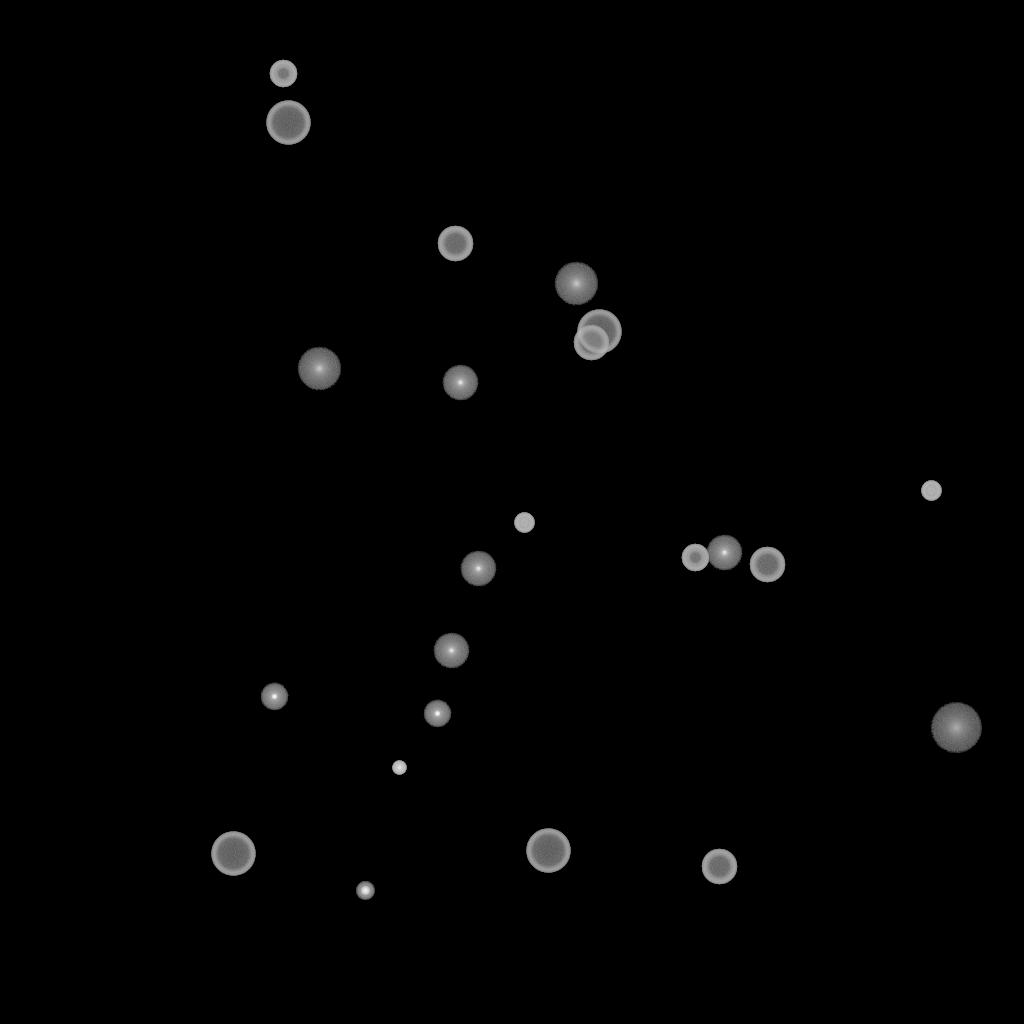depth:-10: (423, 700, 451, 728), (260, 683, 288, 711)
depth:-20: (356, 882, 374, 900)
depth:-30: (392, 761, 406, 775)
depth:-40: (921, 481, 941, 501), (514, 513, 534, 533)
depth:-50: (681, 544, 709, 572), (269, 60, 297, 88)
depth:-60: (701, 849, 737, 885), (437, 226, 473, 262), (749, 547, 785, 583), (573, 325, 609, 361)
depth:-70: (577, 310, 621, 354), (526, 829, 570, 873), (266, 101, 310, 145), (211, 832, 255, 876)
depth:0: (442, 365, 478, 401), (433, 633, 469, 669), (460, 551, 496, 587), (706, 535, 742, 571)
depth:10: (554, 262, 598, 306), (297, 347, 341, 391)
depth:20: (930, 703, 982, 753)
